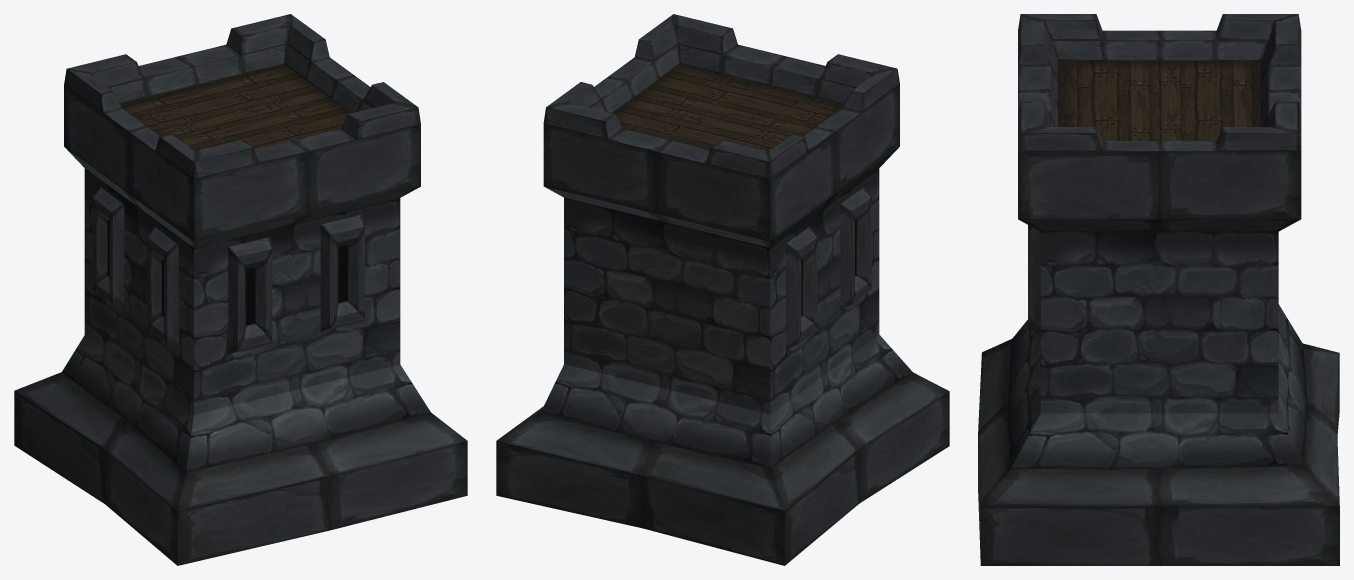
File: cp_tower2_C.FBX
The picture shows the model from 3 angles, left to right: view 1: azimuth 30°, elevation 25°; view 2: azimuth 150°, elevation 25°; view 3: azimuth 270°, elevation 25°; orthographic projection. The views are drawn at different scales.
Parts seen in each view (by area): view 1: tower2_C; view 2: tower2_C; view 3: tower2_C.
Boxes of the visible parts, x1,y1,x2,y2 form: tower2_C: [14, 14, 467, 565]; tower2_C: [496, 14, 949, 565]; tower2_C: [978, 14, 1339, 565].
Size of the model in its own units: 41.87 by 52.83 by 41.59.
